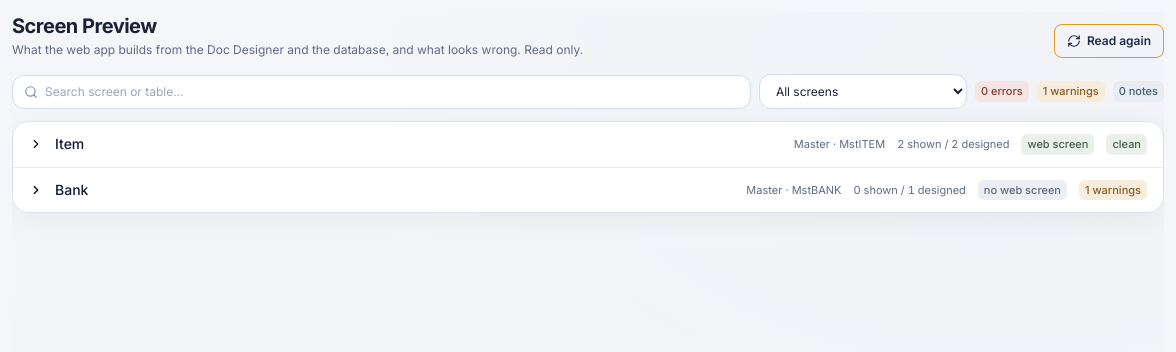
Test: ScreenPreview › lists the screens, filters to the ones with problems and shows the details
The image size is (1176, 352).
Expected: the text "Item" is shown, [55, 135, 84, 152]
Expected: the text "Bank" is shown, [55, 181, 88, 198]
Select "Only with errors or warnings" in the dropdown named "Show" at (863, 92), box [759, 74, 967, 109]
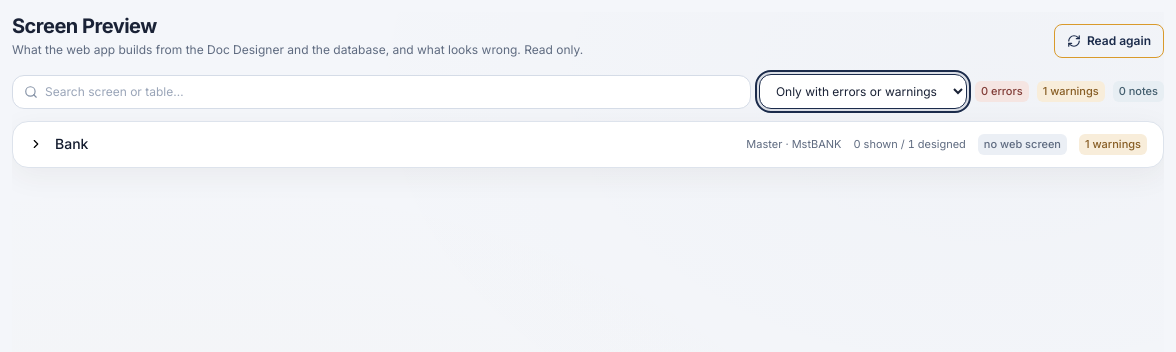
Expected: the button "Item" is gone
Click the text "Bank" at (72, 144), box [55, 135, 88, 152]
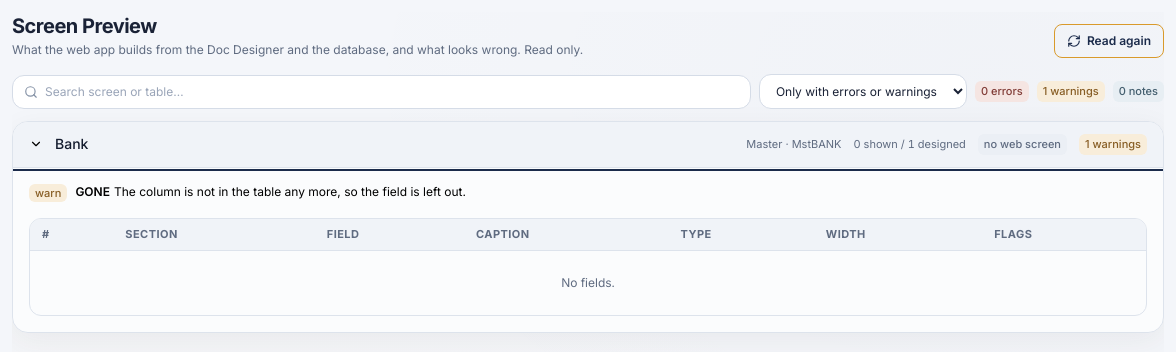
Expected: the text "not in the table any more" is shown, [114, 184, 466, 198]
